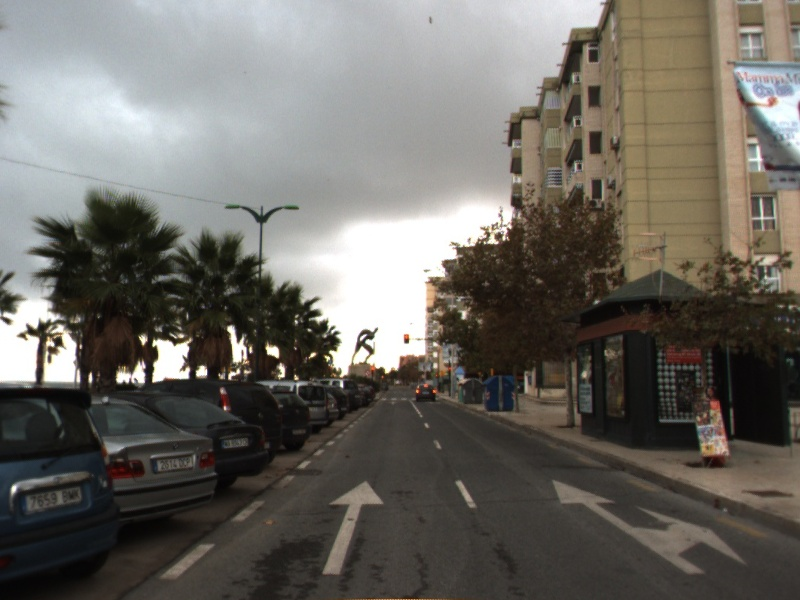STRAIGHT: (320, 479, 386, 577)
STRAIGHT_RIGHT: (550, 478, 750, 576)
